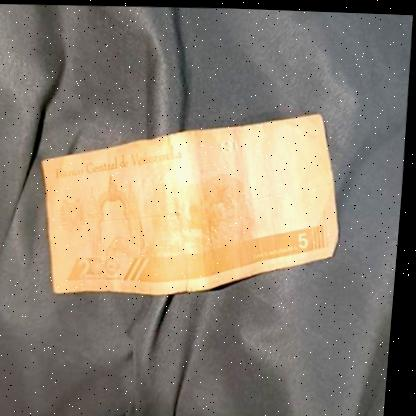five-back-vef: (34, 100, 354, 302)
